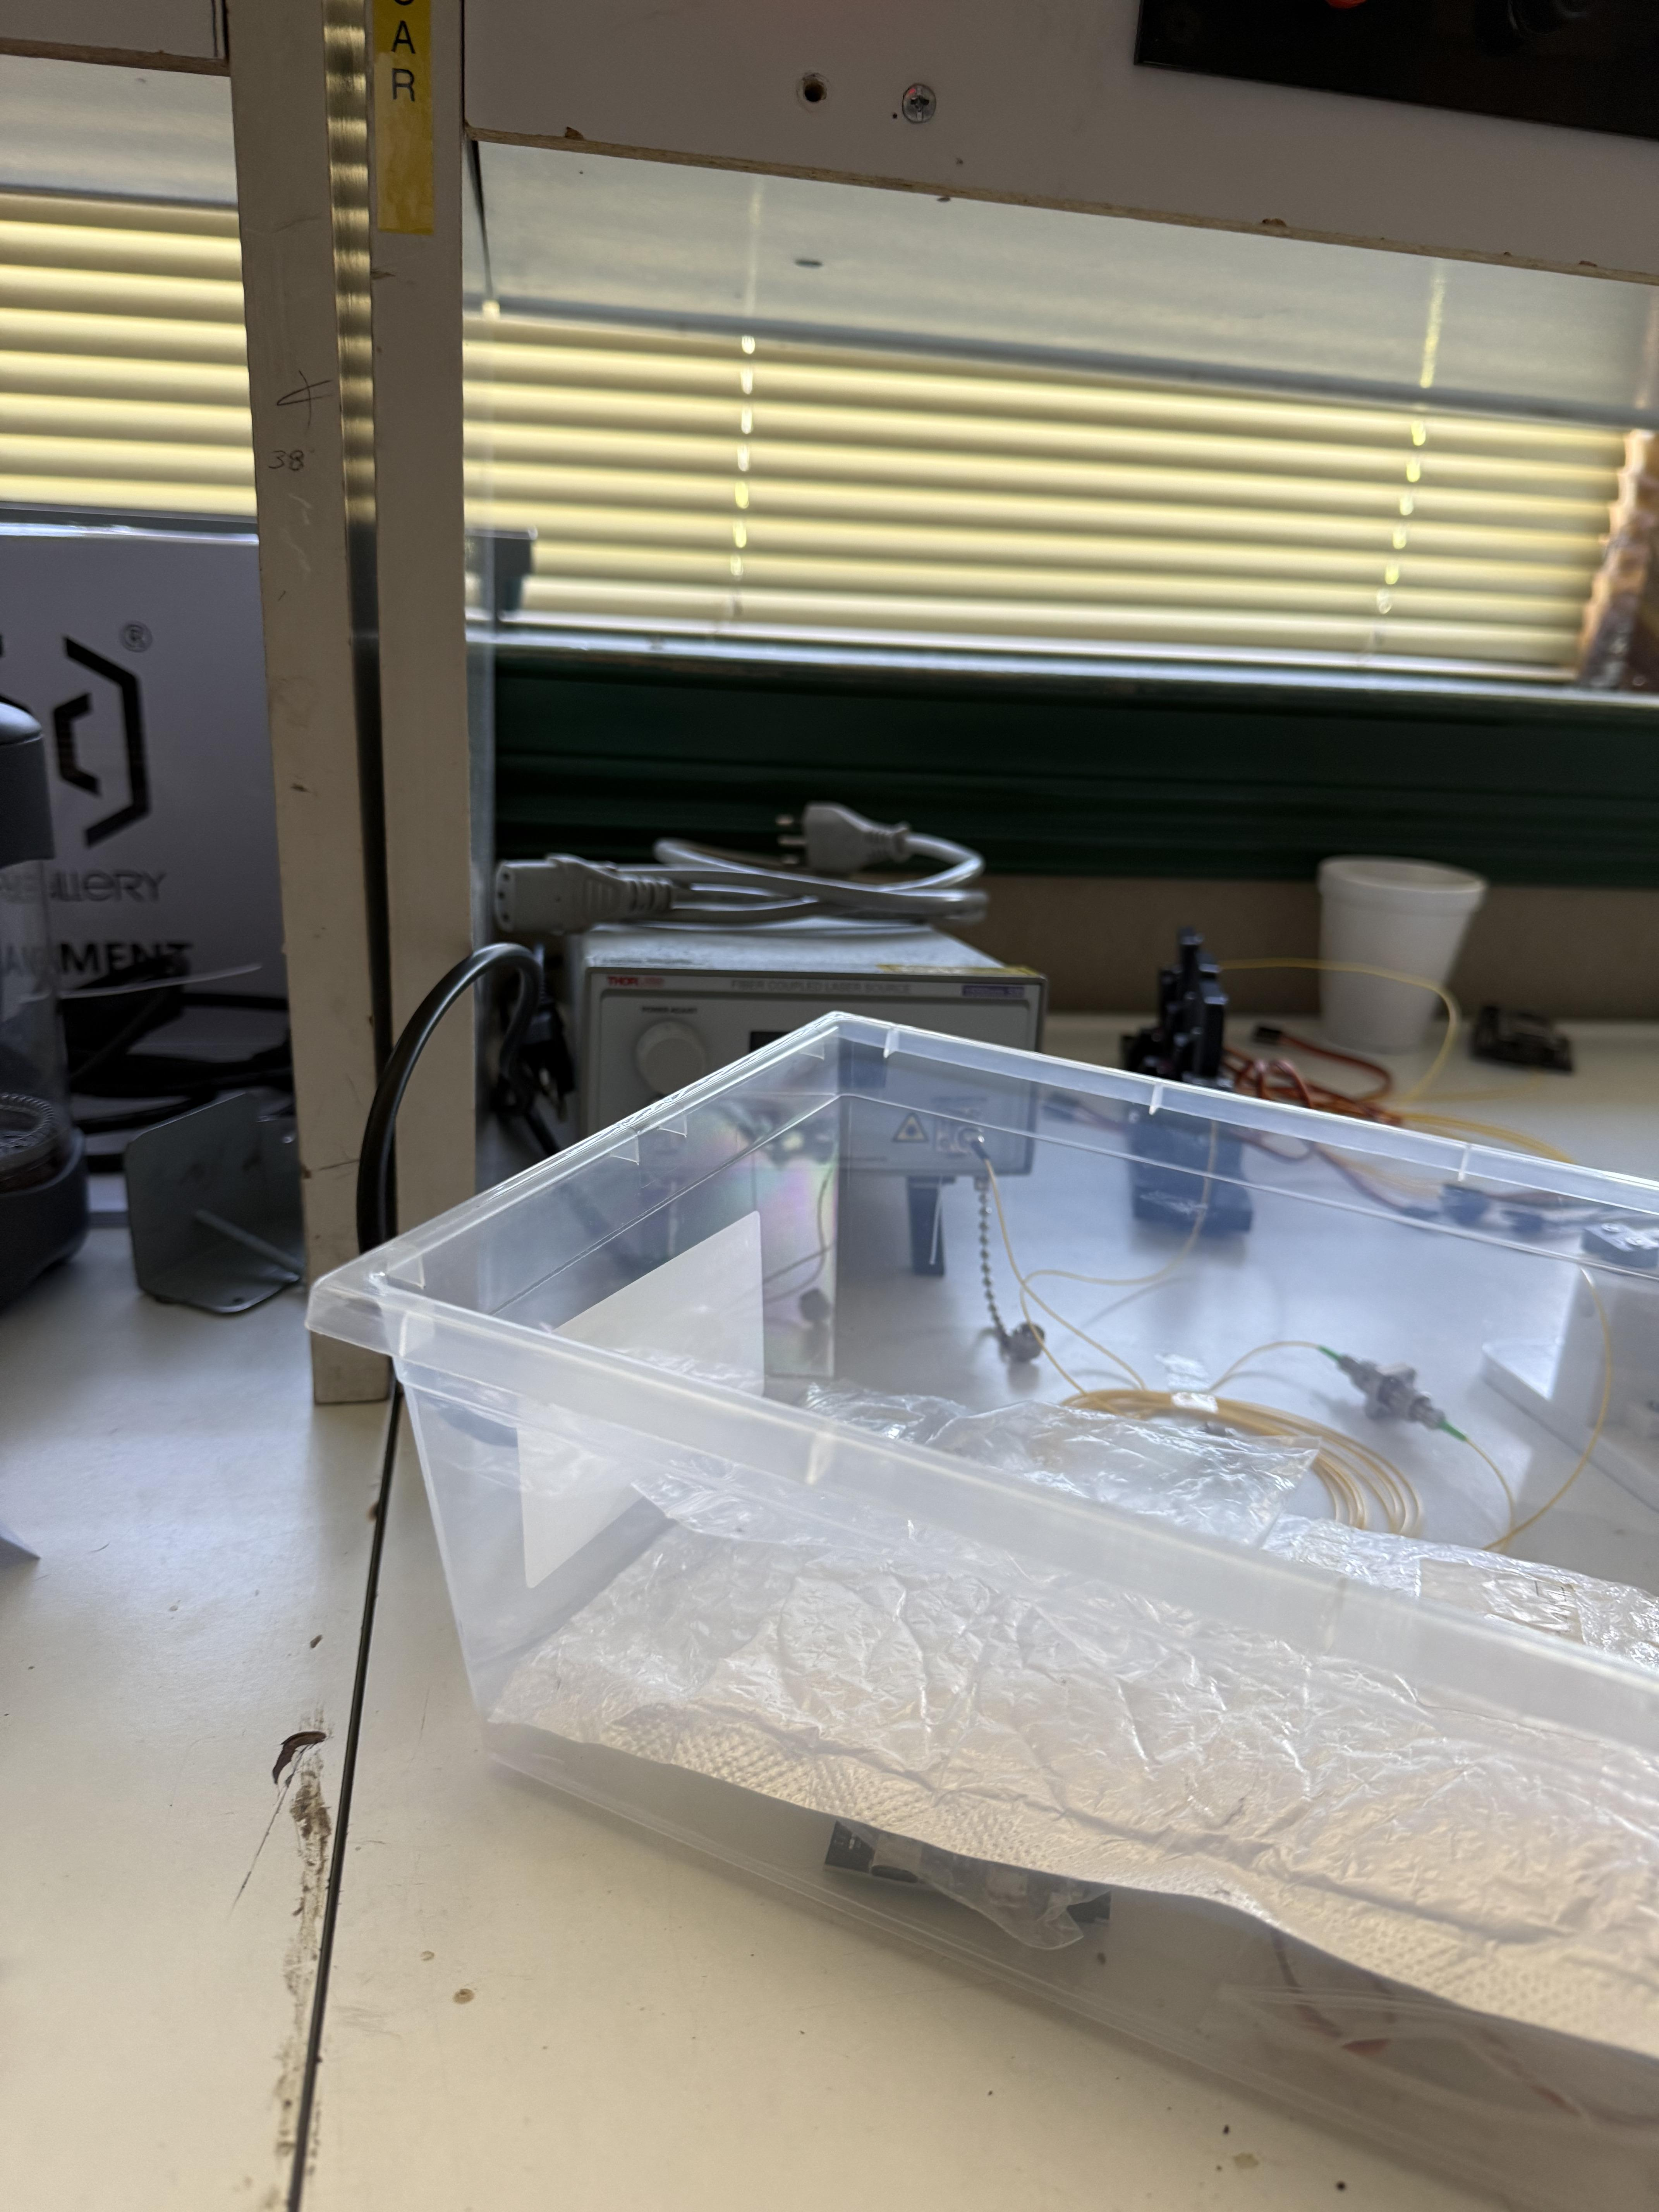laser: (481, 782, 1119, 1324)
paddle_polarization_controller: (1119, 887, 1309, 1273)
